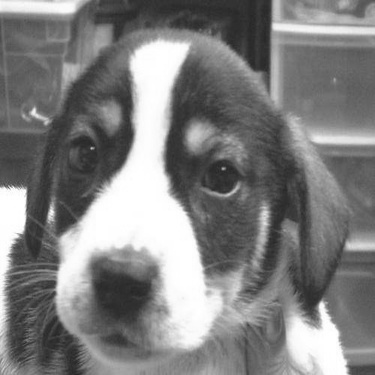dog: (1, 23, 361, 371)
